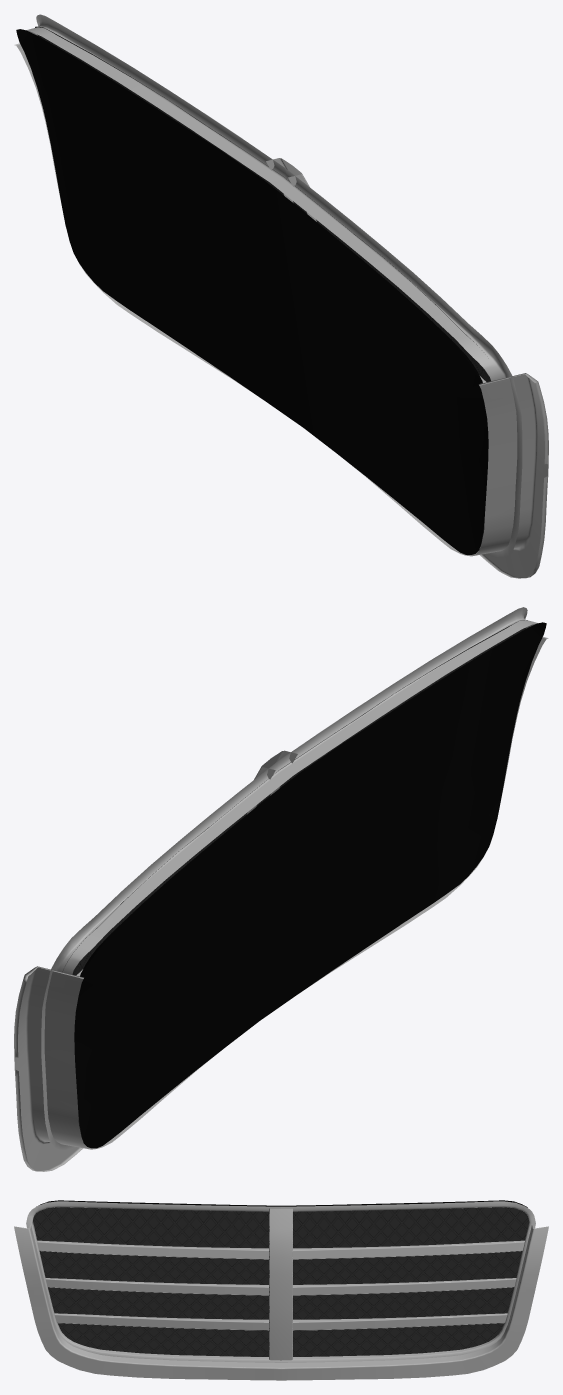
3 views of the same model, one above another, from view 1: azimuth 30°, elevation 25°; view 2: azimuth 150°, elevation 25°; view 3: azimuth 270°, elevation 25° (orthographic). The views are drawn at different scales.
Visible parts, largest first — view 1: U805_4A_041B_C_U805_4A_041B_C_3_D, U805_4A_041B_C_1_DaS_U805_4A_041B_C, U805_4A_041B_C_U805_4A_041B_C_2_D; view 2: U805_4A_041B_C_U805_4A_041B_C_3_D, U805_4A_041B_C_1_DaS_U805_4A_041B_C, U805_4A_041B_C_U805_4A_041B_C_2_D; view 3: U805_4A_041B_C_U805_4A_041B_C_2_D, U805_4A_041B_C_1_DaS_U805_4A_041B_C, U805_4A_041B_C_U805_4A_041B_C_3_D.
Part boxes in pixels (x1=…): U805_4A_041B_C_U805_4A_041B_C_3_D: x1=16, y1=29, x2=488, y2=554; U805_4A_041B_C_1_DaS_U805_4A_041B_C: x1=14, y1=14, x2=548, y2=578; U805_4A_041B_C_U805_4A_041B_C_2_D: x1=35, y1=26, x2=490, y2=544; U805_4A_041B_C_U805_4A_041B_C_3_D: x1=74, y1=622, x2=546, y2=1148; U805_4A_041B_C_1_DaS_U805_4A_041B_C: x1=14, y1=607, x2=548, y2=1171; U805_4A_041B_C_U805_4A_041B_C_2_D: x1=62, y1=620, x2=527, y2=1138; U805_4A_041B_C_U805_4A_041B_C_2_D: x1=33, y1=1207, x2=529, y2=1356; U805_4A_041B_C_1_DaS_U805_4A_041B_C: x1=14, y1=1201, x2=548, y2=1380; U805_4A_041B_C_U805_4A_041B_C_3_D: x1=33, y1=1200, x2=527, y2=1218.
Bounding box in the file's own units: 12.74 × 32.78 × 101.
